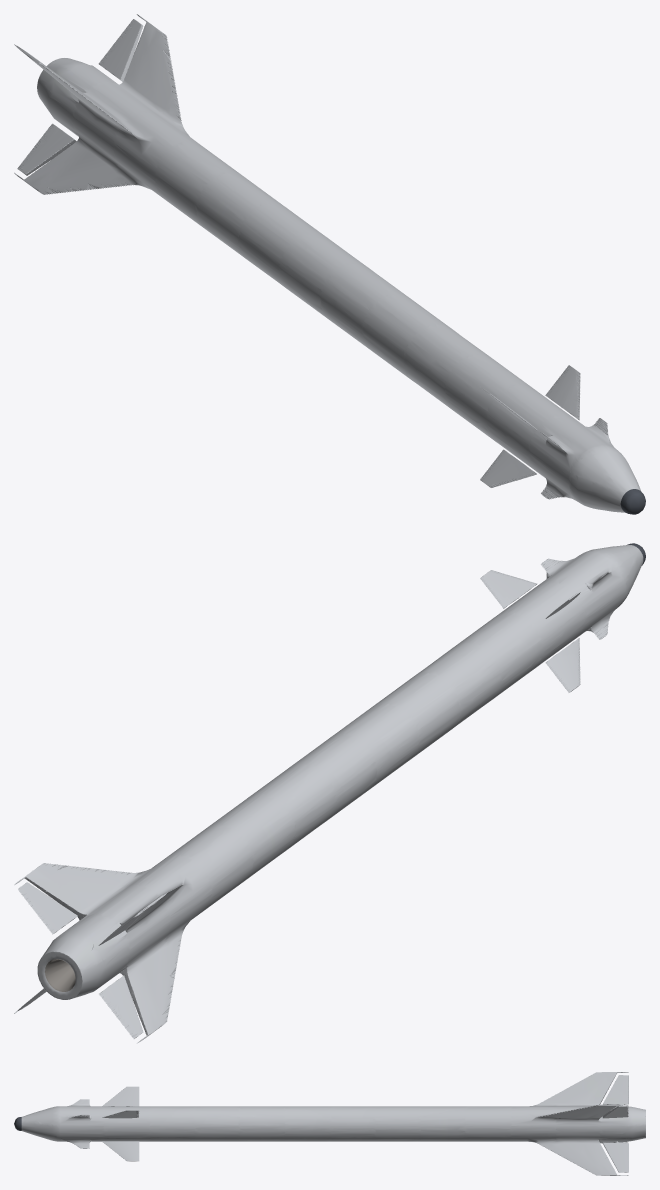
The picture shows the model from 3 angles, top to bottom: view 1: azimuth 30°, elevation 25°; view 2: azimuth 150°, elevation 25°; view 3: azimuth 270°, elevation 25°; orthographic projection. The views are drawn at different scales.
Visible parts, largest first — view 1: airframe, fsim:aileron (×2), fsim:elevator+rudder:1@-20,20 (×2); view 2: airframe, fsim:aileron (×2), fsim:elevator+rudder:1@-20,20 (×2); view 3: airframe, fsim:aileron (×3), fsim:elevator+rudder:-1@-20,20 (×2), fsim:elevator+rudder:1@-20,20.
Boxes of the visible parts, bbox=[...] form: airframe: bbox=[14, 14, 645, 514]; fsim:aileron (×2): bbox=[17, 19, 143, 175]; fsim:elevator+rudder:1@-20,20 (×2): bbox=[480, 365, 580, 487]; airframe: bbox=[14, 543, 645, 1043]; fsim:aileron (×2): bbox=[18, 882, 143, 1038]; fsim:elevator+rudder:1@-20,20 (×2): bbox=[480, 570, 580, 692]; airframe: bbox=[14, 1072, 645, 1175]; fsim:aileron (×3): bbox=[602, 1075, 628, 1172]; fsim:elevator+rudder:-1@-20,20 (×2): bbox=[102, 1086, 139, 1161]; fsim:elevator+rudder:1@-20,20: bbox=[102, 1110, 139, 1118].
Size of the model in its own units: 0.3649 by 0.3654 by 2.93.
Materials: 4 (1 with a texture image).
